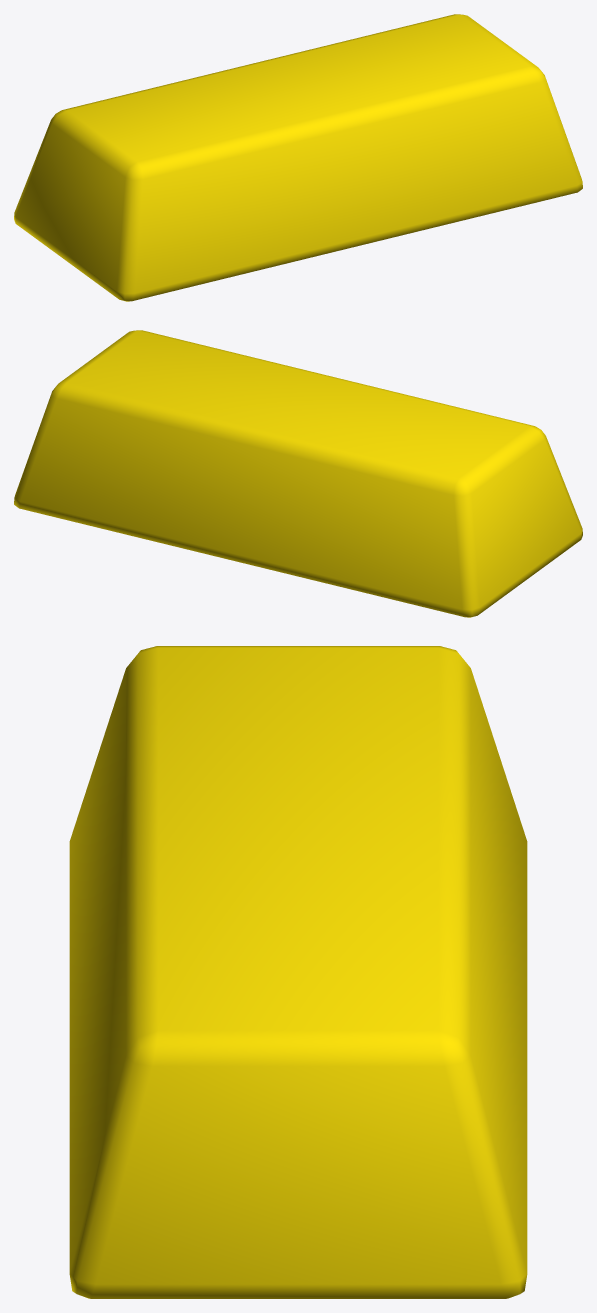
Rendered from gold_nugget.glb.
3 renders of one model, top to bottom at view 1: azimuth 30°, elevation 25°; view 2: azimuth 150°, elevation 25°; view 3: azimuth 270°, elevation 25°, orthographic. The views are drawn at different scales.
Parts seen in each view (by area): view 1: Gold_Q; view 2: Gold_Q; view 3: Gold_Q.
Boxes of the visible parts, x1,y1,x2,y2 form: Gold_Q: [14, 14, 582, 301]; Gold_Q: [14, 330, 582, 617]; Gold_Q: [69, 646, 527, 1298].
Size of the model in its own units: 0.4657 by 0.1153 by 0.1988.
